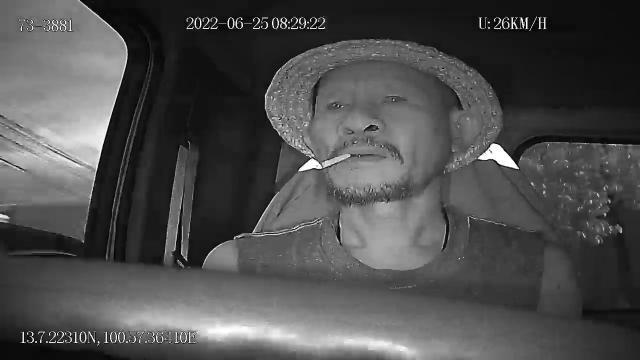SafeDriving: (321, 90, 356, 115), (376, 88, 412, 110)
Smoking: (318, 153, 350, 171)
